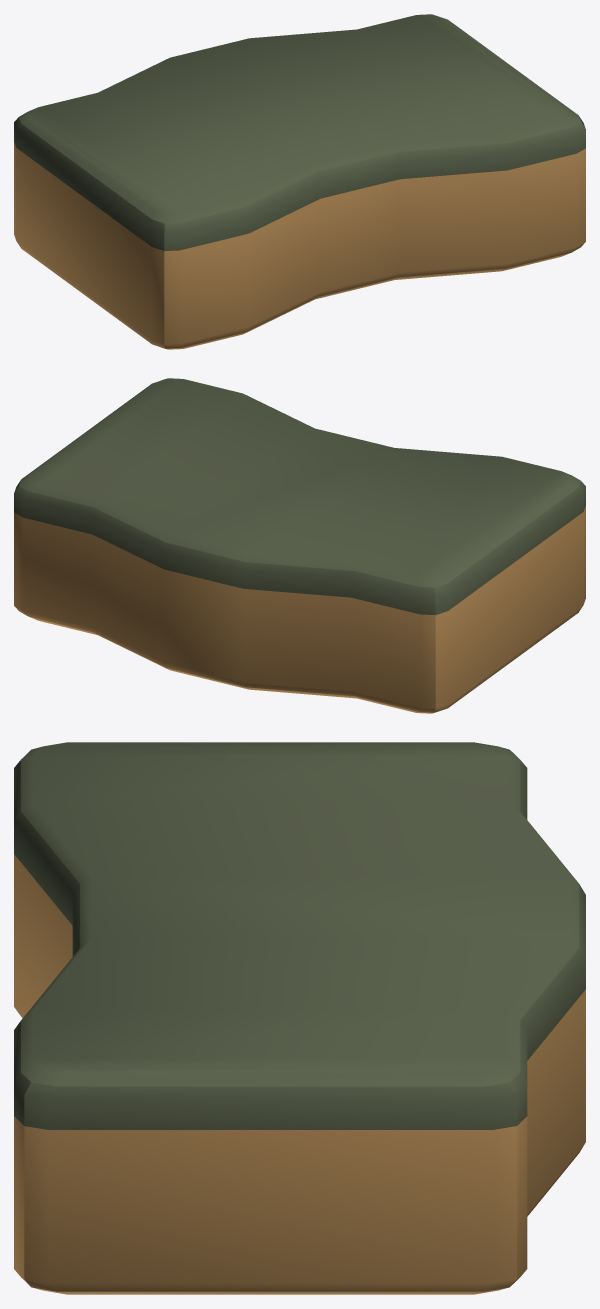
The model's file is sponge.glb.
3 views of the same model, one above another, from view 1: azimuth 30°, elevation 25°; view 2: azimuth 150°, elevation 25°; view 3: azimuth 270°, elevation 25° (orthographic). The views are drawn at different scales.
Parts seen in each view (by area): view 1: Sponge_Sponge_0_001; view 2: Sponge_Sponge_0_001; view 3: Sponge_Sponge_0_001.
Part boxes in pixels (x1,y1,x2,y2): Sponge_Sponge_0_001: (14, 14, 585, 349); Sponge_Sponge_0_001: (14, 378, 585, 713); Sponge_Sponge_0_001: (14, 742, 585, 1294).
Bounding box in the file's own units: 10 × 3 × 7.
1 material, 1 textured.
